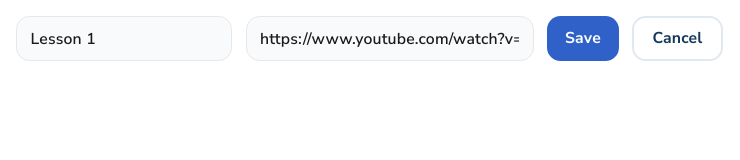
it: EditLessonForm › shows error message when updating fails
Click the button "Save" at {"x": 583, "y": 38}, box 547,16 -> 619,61
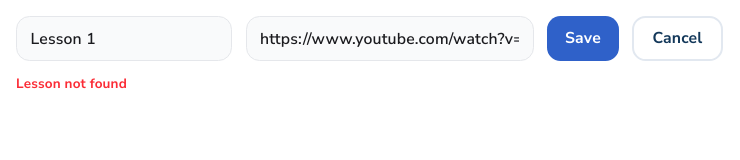
expect the text "Lesson not found" is shown: met, box 16,74 -> 127,92
